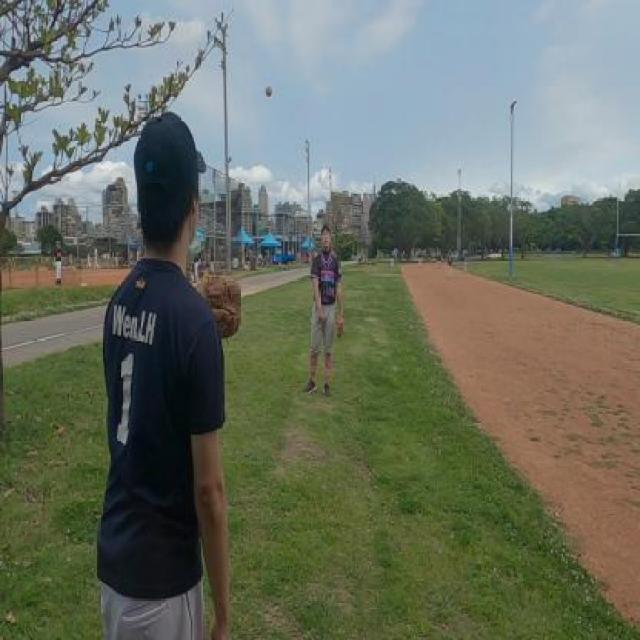baseball: (265, 84, 272, 98)
